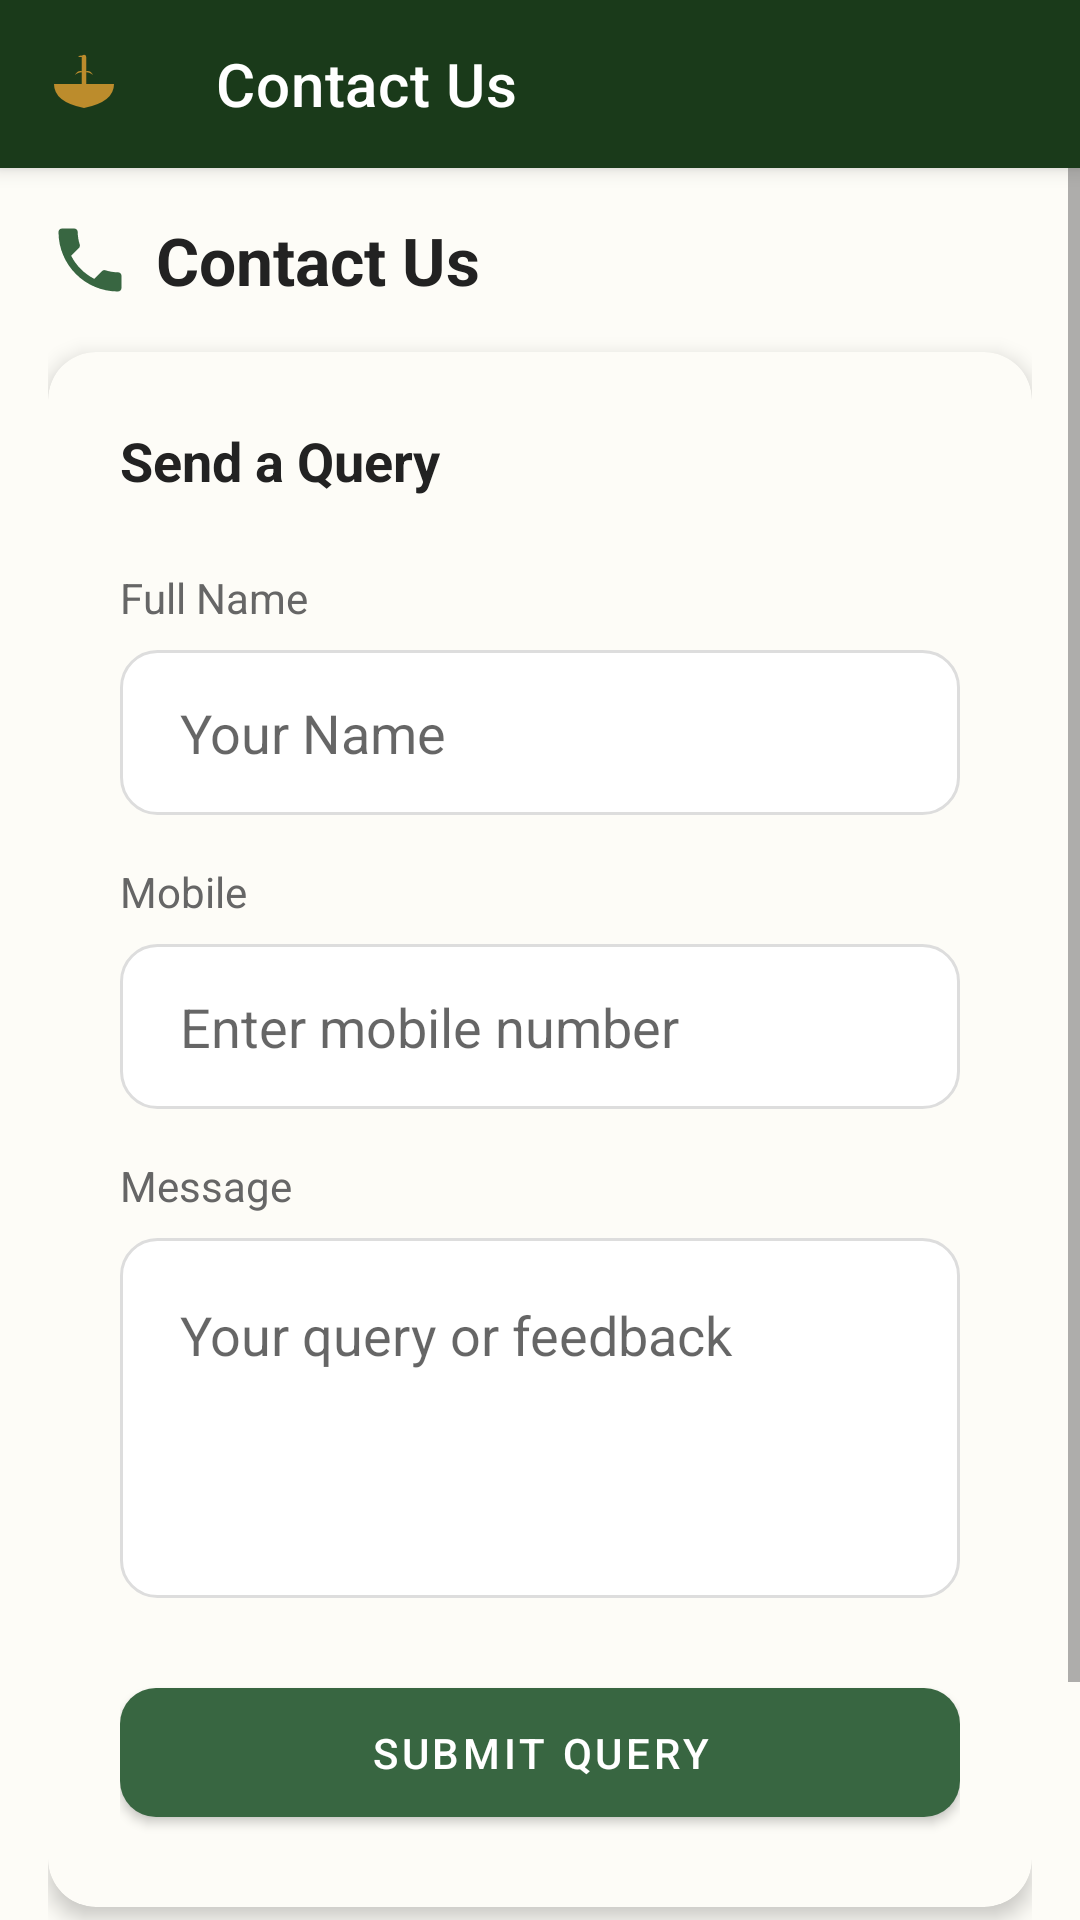

Where icons sit on this 1080x1920 app screen, as bbox(x1, y1, x2, y2):
phone: bbox(58, 228, 122, 292)
